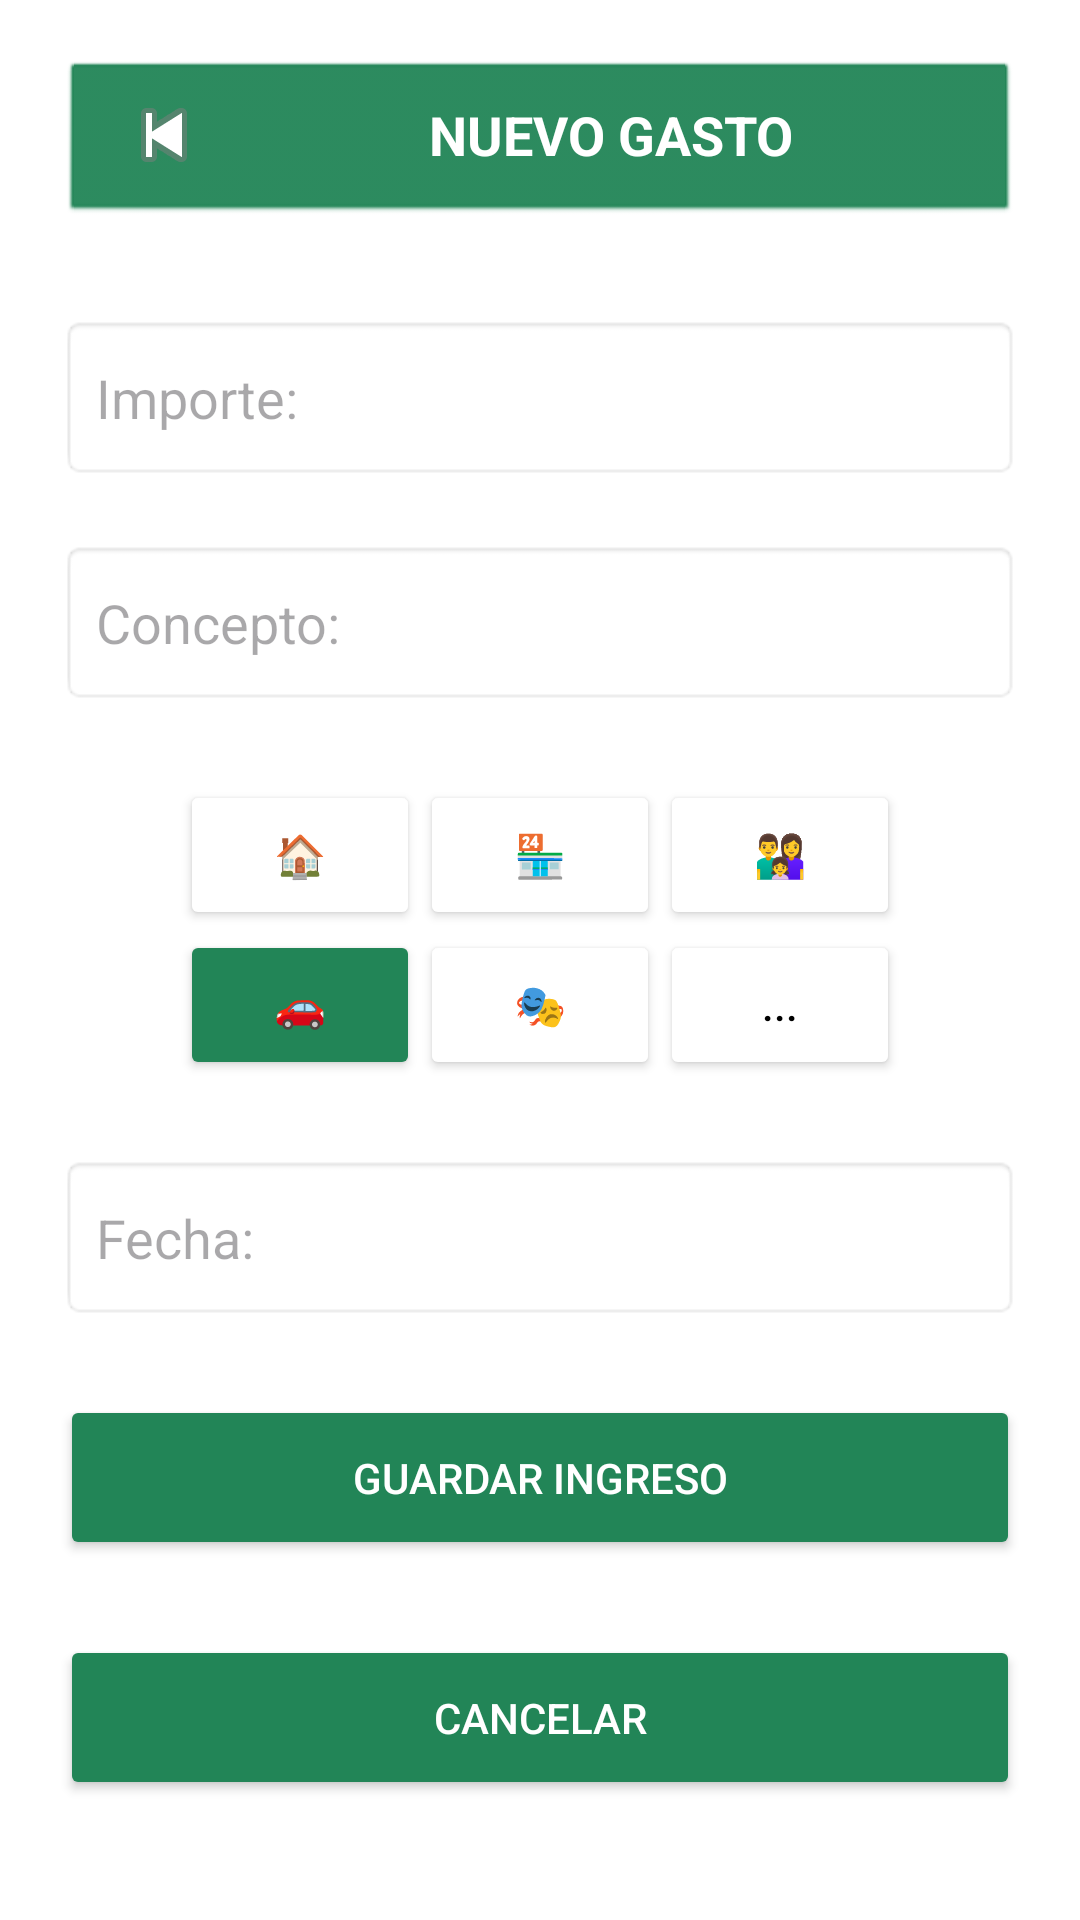

Point at icon controls on the screen. Image size 1080 × 1920, points as (x,y).
previous: (164,135)
